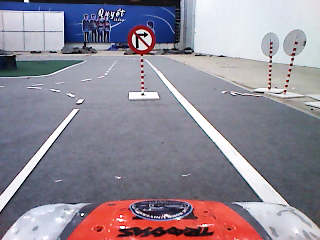ban: (127, 24, 156, 54)
